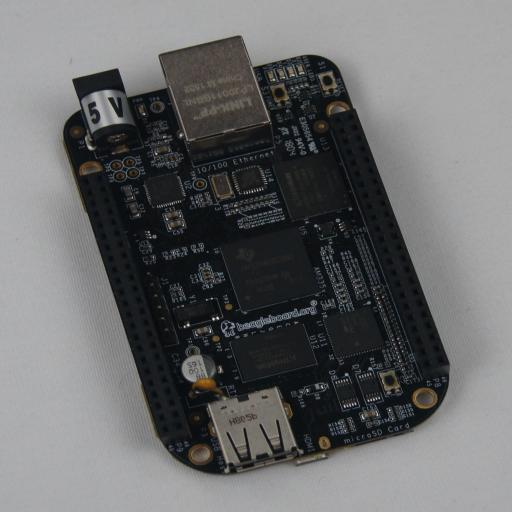Beaglebone Black: (63, 36, 450, 476)
